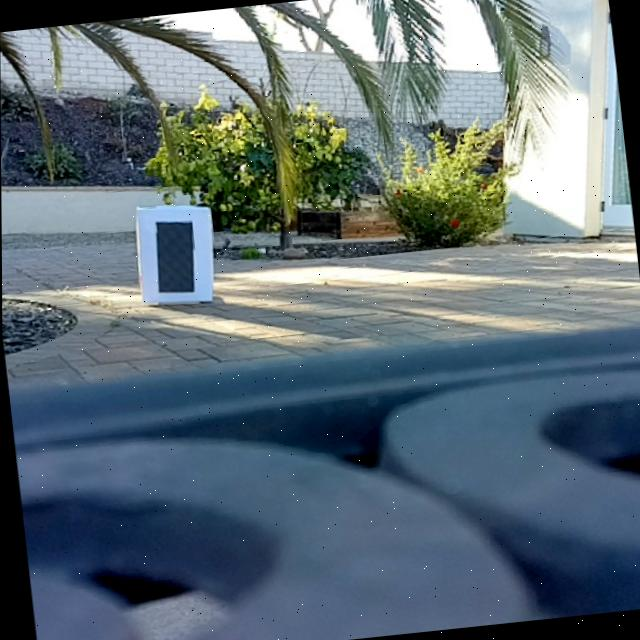led: (150, 215, 198, 298)
